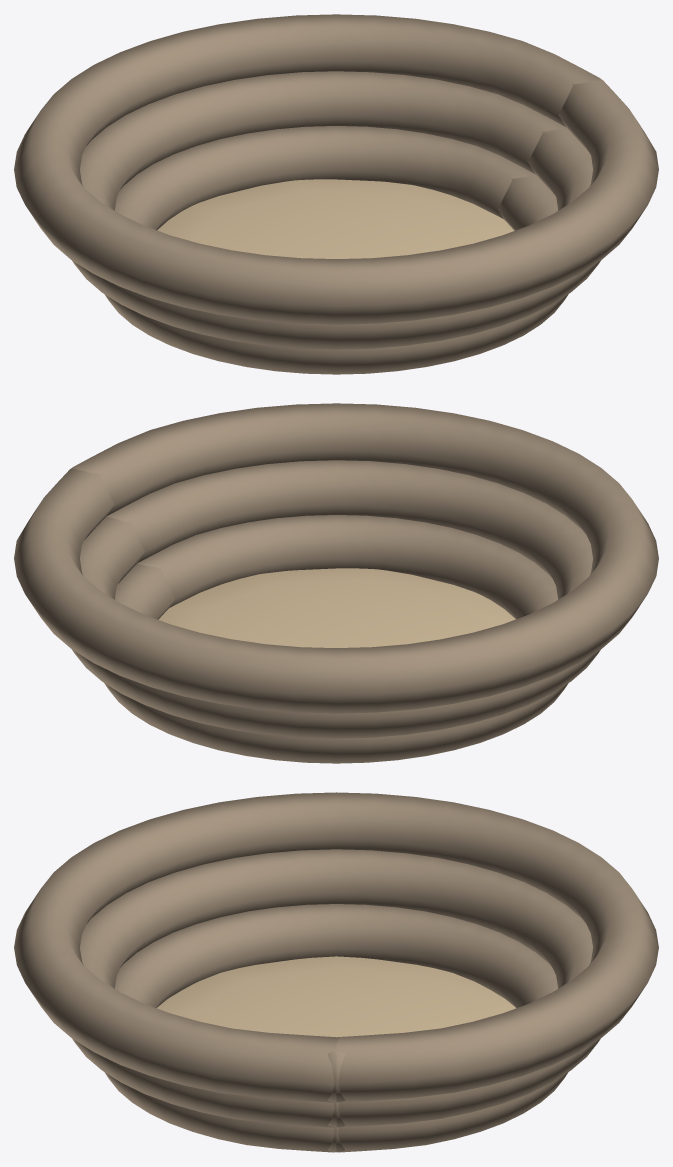
Rendered from birds-and-flying-creatures-cup-nest-33c8119f__20658.glb.
The picture shows the model from 3 angles, top to bottom: view 1: azimuth 30°, elevation 25°; view 2: azimuth 150°, elevation 25°; view 3: azimuth 270°, elevation 25°; orthographic projection.
Visible parts, largest first — view 1: cup-nest; view 2: cup-nest; view 3: cup-nest.
Boxes of the visible parts, x1,y1,x2,y2 form: cup-nest: (14,14,658,374); cup-nest: (14,403,658,763); cup-nest: (14,792,658,1152).
Bounding box in the file's own units: 0.2939 × 0.073 × 0.294.
